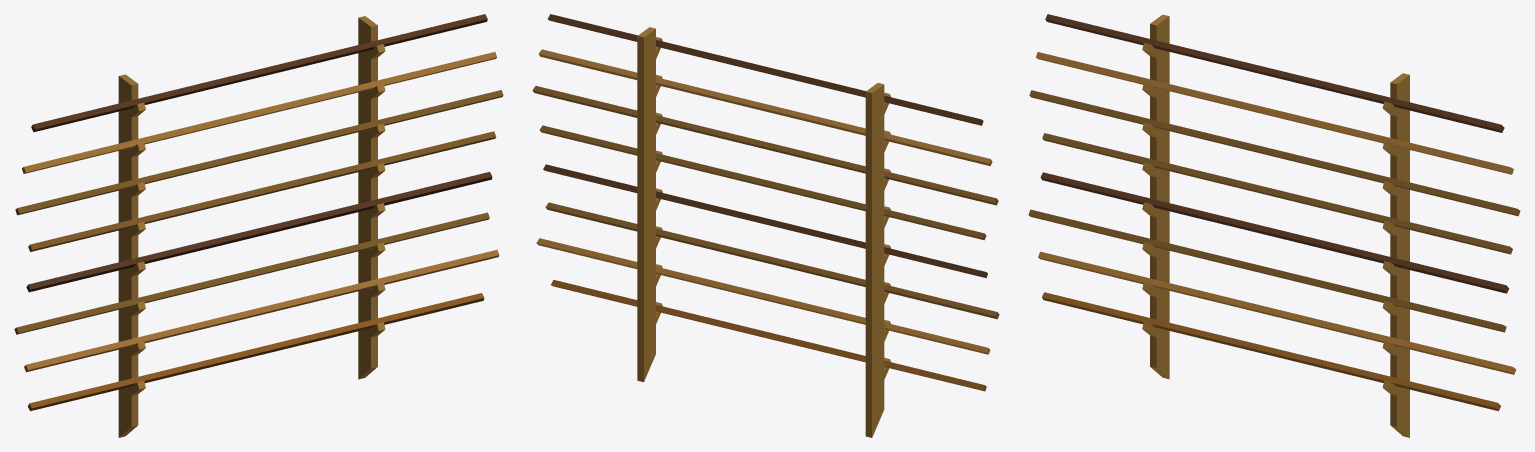
File: Prop_Dojo_WoodSwordHolder_D.fbx
The picture shows the model from 3 angles, left to right: view 1: azimuth 30°, elevation 25°; view 2: azimuth 150°, elevation 25°; view 3: azimuth 330°, elevation 25°; orthographic projection. The views are drawn at different scales.
Parts seen in each view (by area): view 1: Prop_Dojo_WoodSwordHolder_D; view 2: Prop_Dojo_WoodSwordHolder_D; view 3: Prop_Dojo_WoodSwordHolder_D.
Boxes of the visible parts, x1=… form: Prop_Dojo_WoodSwordHolder_D: x1=14, y1=14, x2=503, y2=437; Prop_Dojo_WoodSwordHolder_D: x1=532, y1=14, x2=999, y2=437; Prop_Dojo_WoodSwordHolder_D: x1=1028, y1=14, x2=1520, y2=437.
Bounding box in the file's own units: 175 × 124 × 12.72.
